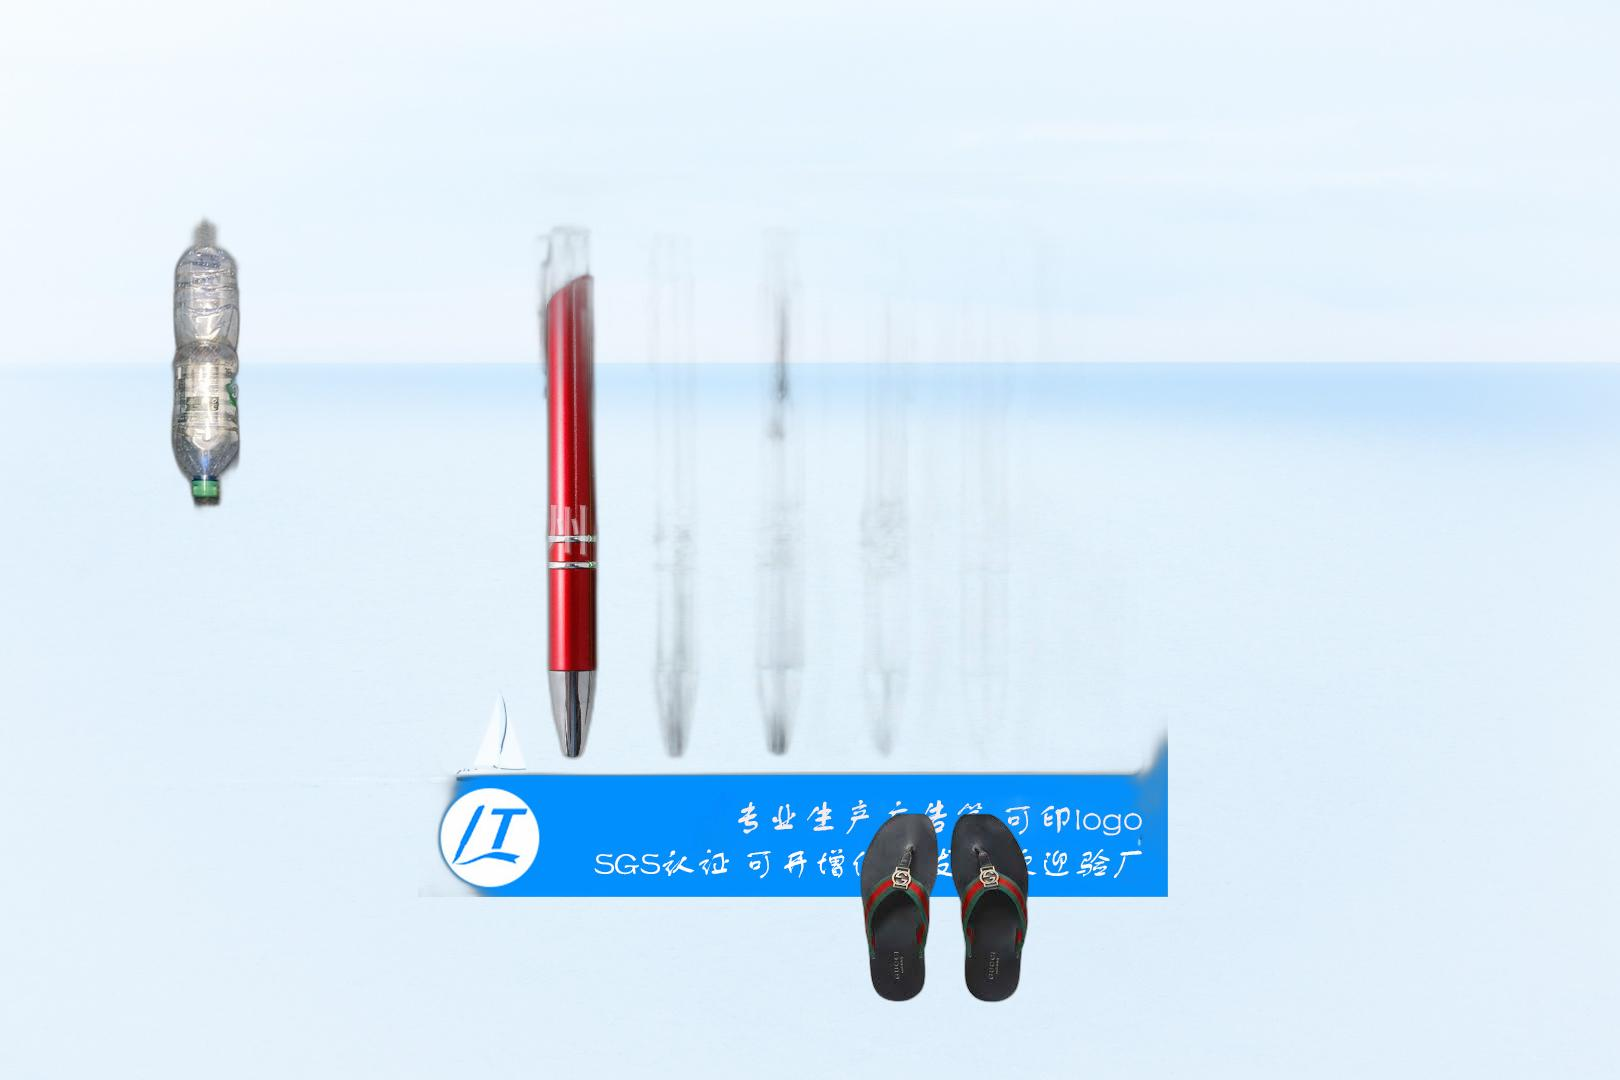penholder: (418, 170, 1168, 897)
plastic-bottles: (168, 211, 243, 520)
shoes: (858, 811, 1031, 1005)
